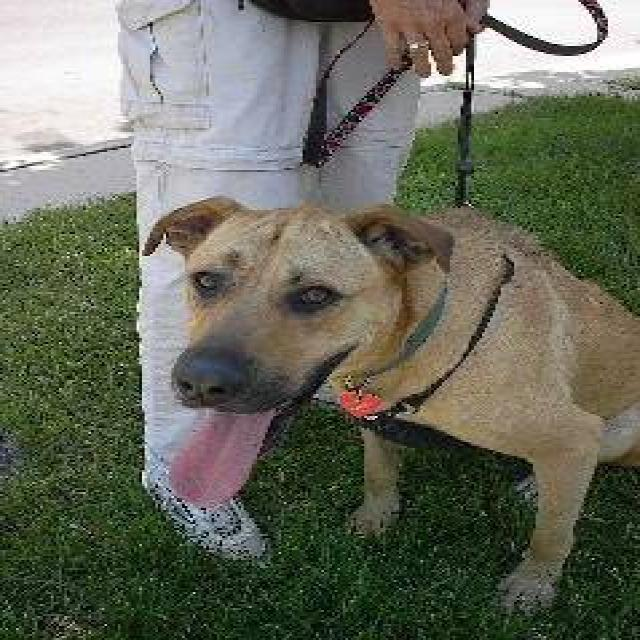dog: (140, 192, 638, 616)
